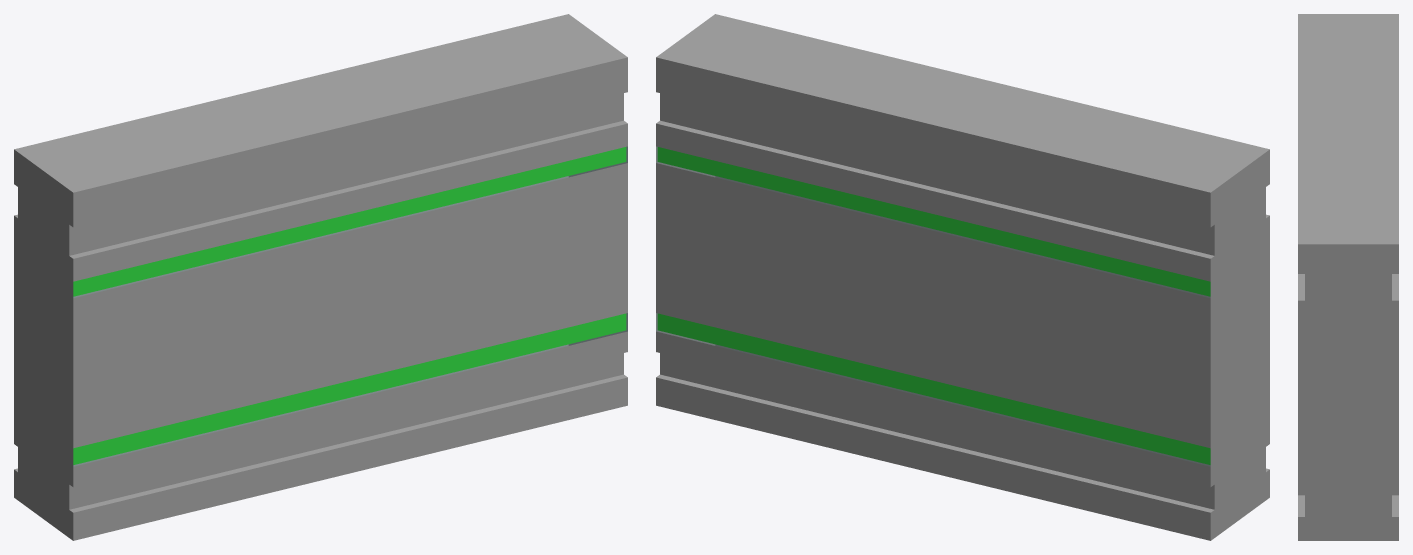
File: Wall.fbx
3 views of the same model, side by side, from view 1: azimuth 30°, elevation 25°; view 2: azimuth 150°, elevation 25°; view 3: azimuth 270°, elevation 25° (orthographic). The views are drawn at different scales.
Parts seen in each view (by area): view 1: wall, front_bot_glass, front_bot_glow; view 2: wall, front_bot_glass, front_bot_glow; view 3: wall.
Boxes of the visible parts, x1,y1,x2,y2 form: wall: [14, 14, 627, 540]; front_bot_glass: [73, 147, 627, 466]; front_bot_glow: [73, 147, 626, 464]; wall: [656, 14, 1269, 540]; front_bot_glass: [656, 147, 1210, 466]; front_bot_glow: [657, 147, 1210, 464]; wall: [1298, 14, 1398, 540].
Size of the model in its own units: 500 by 300 by 92.5.
